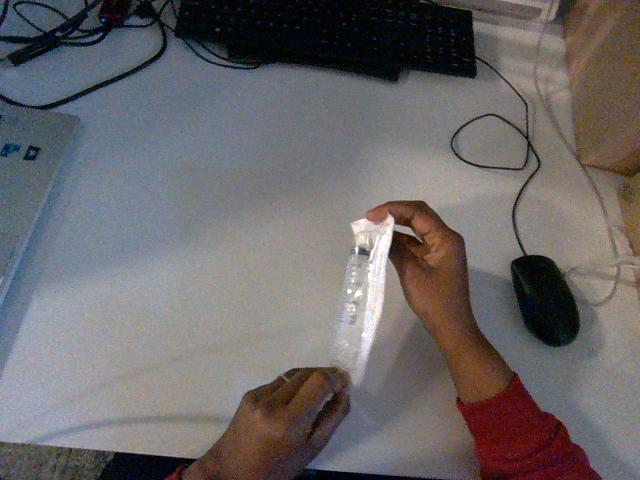syringe: (334, 215, 393, 384)
